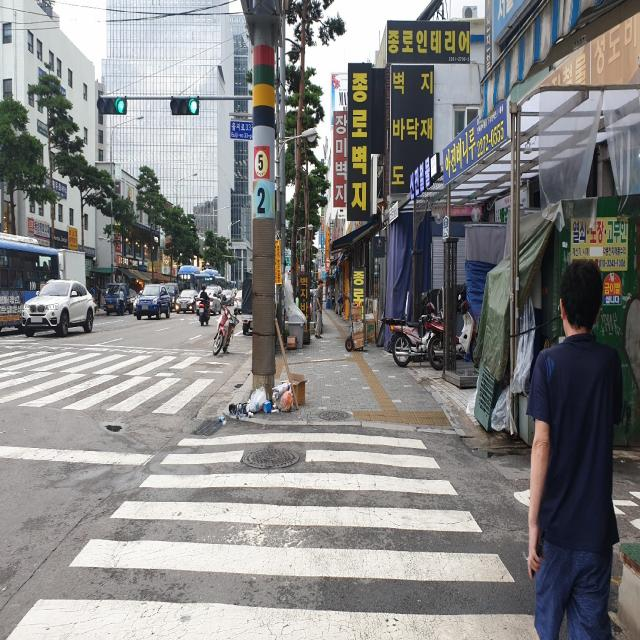횡단보도: (0, 428, 555, 639), (0, 344, 244, 421)
